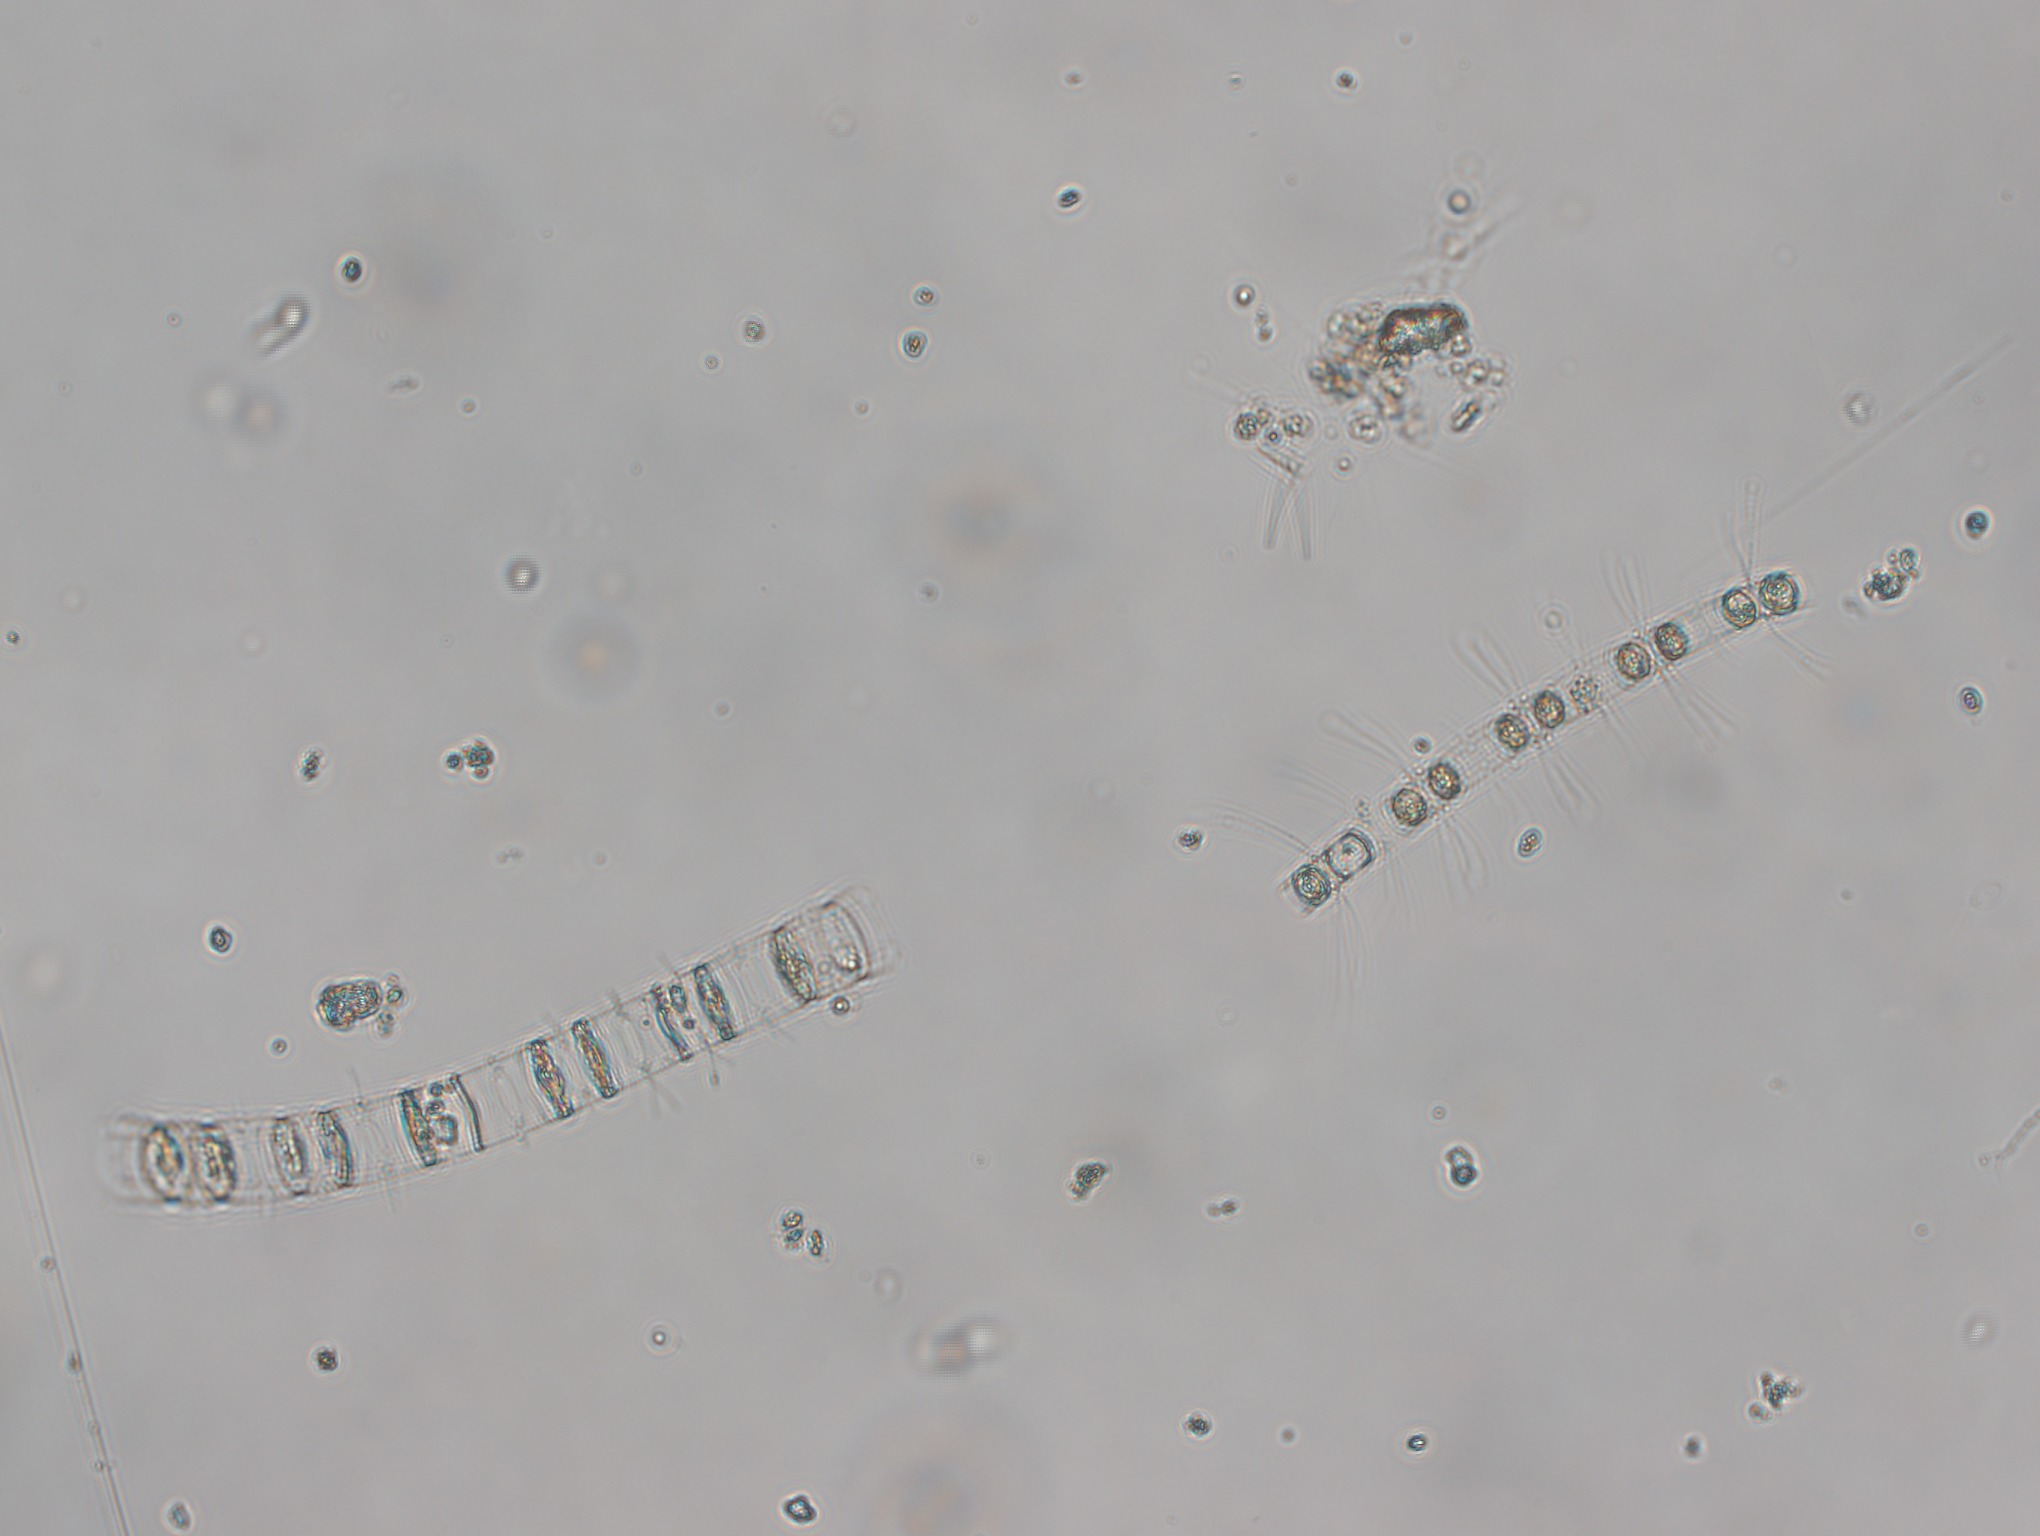chaetoceros: (110, 871, 919, 1225), (1256, 503, 1858, 947)
